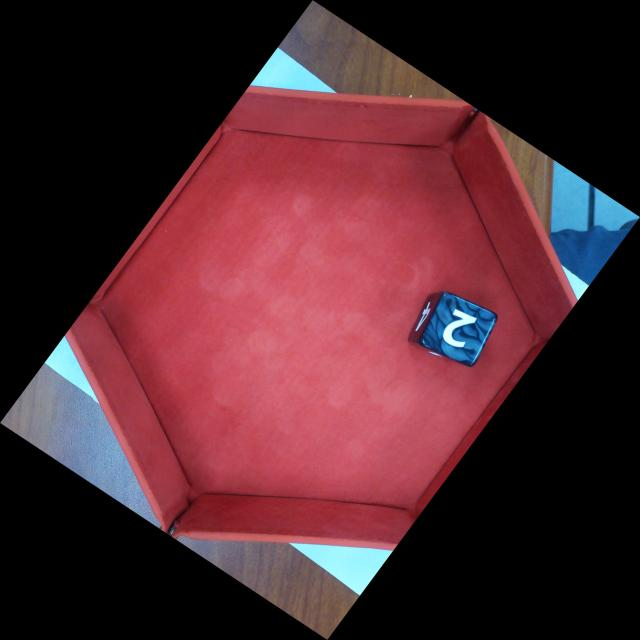dice: (420, 291, 498, 370)
